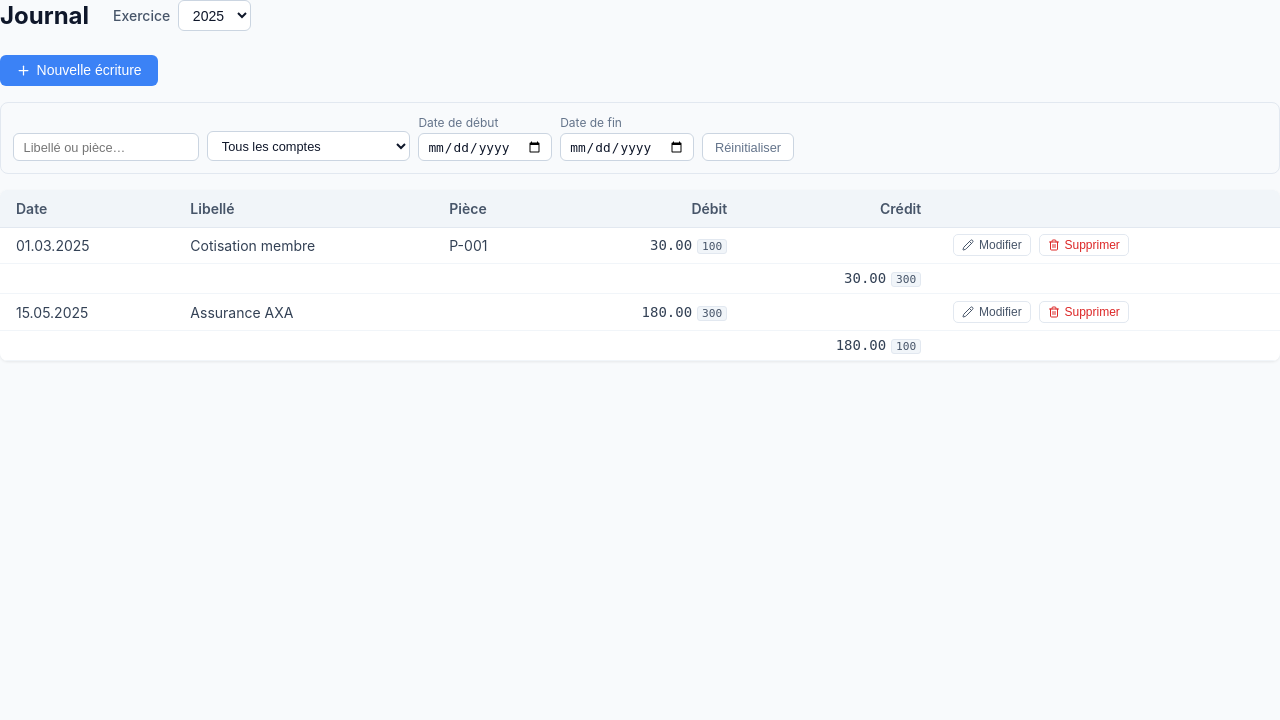
Scenario: JournalPage — boutons Modifier et Supprimer › clic Modifier ouvre la modale avec l'écriture pré-remplie
expect the text "Cotisation membre" is shown: met, box [174, 227, 433, 263]
Click the button "Modifier" in the row of "01.03.2025".
click(992, 245)  # box [953, 234, 1031, 256]
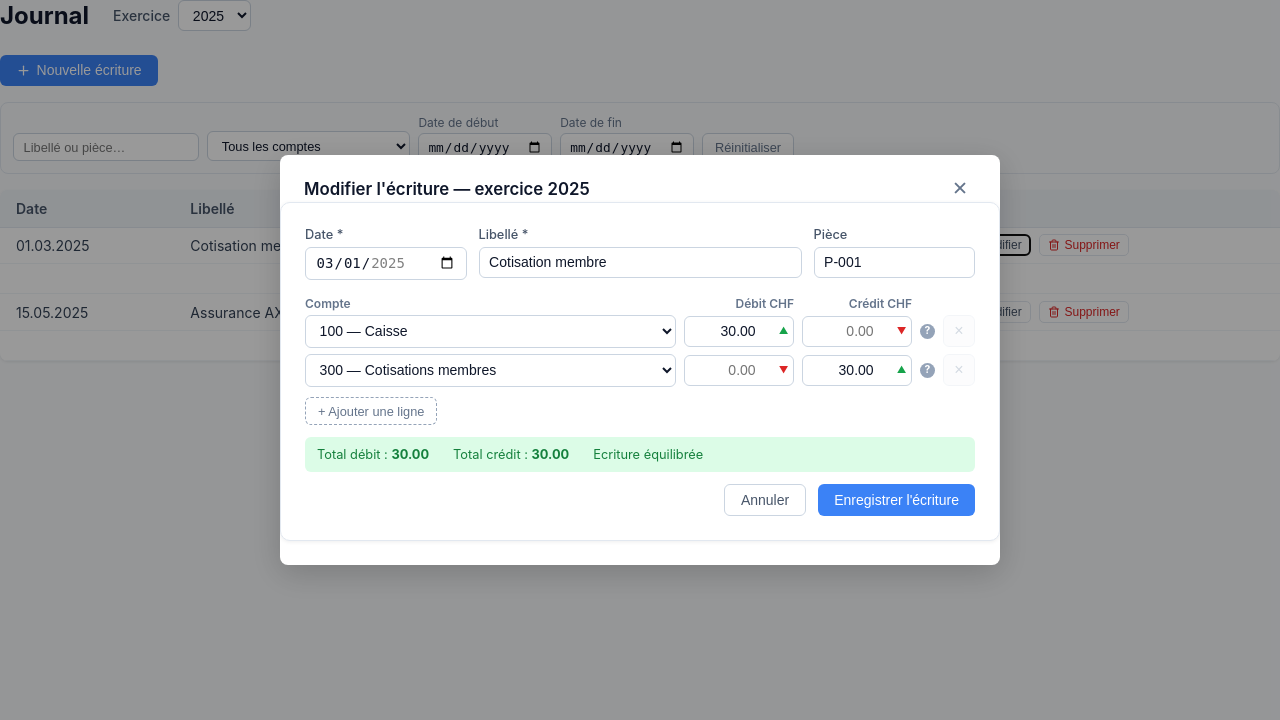
expect the dialog is shown: met, box [280, 155, 1000, 565]
expect the field labelled "Libellé *" holds "Cotisation membre": met, box [478, 247, 802, 278]
